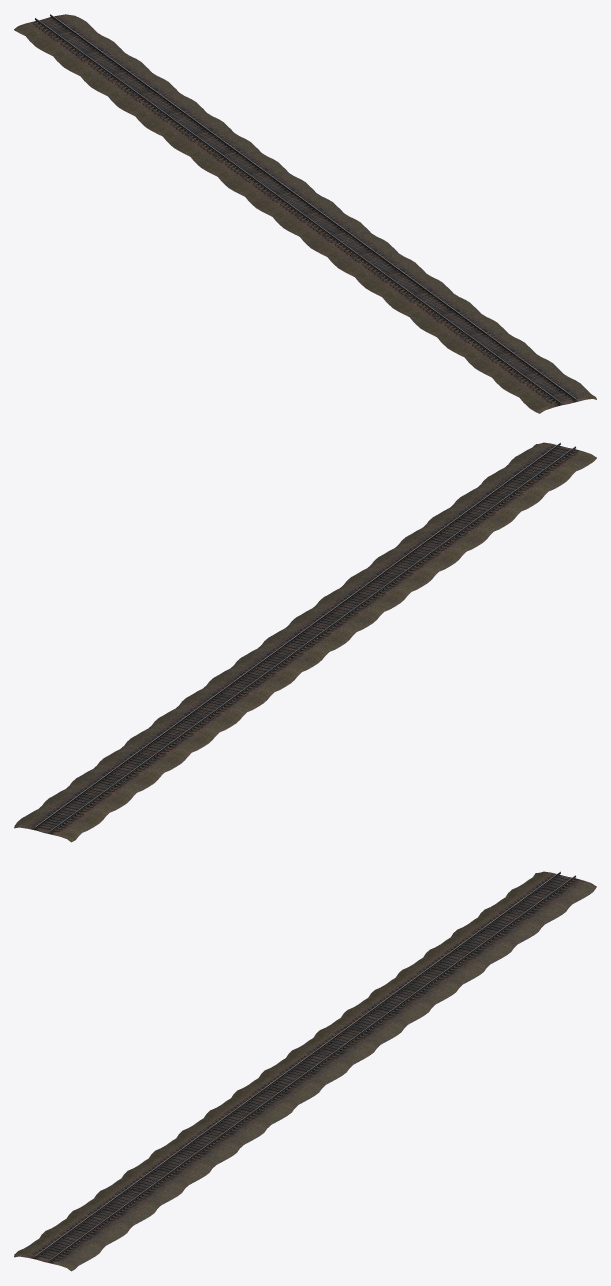
Rendered from 1track_95_der_TSM.gltf.
3 renders of one model, top to bottom at view 1: azimuth 30°, elevation 25°; view 2: azimuth 150°, elevation 25°; view 3: azimuth 330°, elevation 25°, orthographic.
Size of the model in its own units: 6.7 by 0.6438 by 95.8.
1 material, 1 textured.
